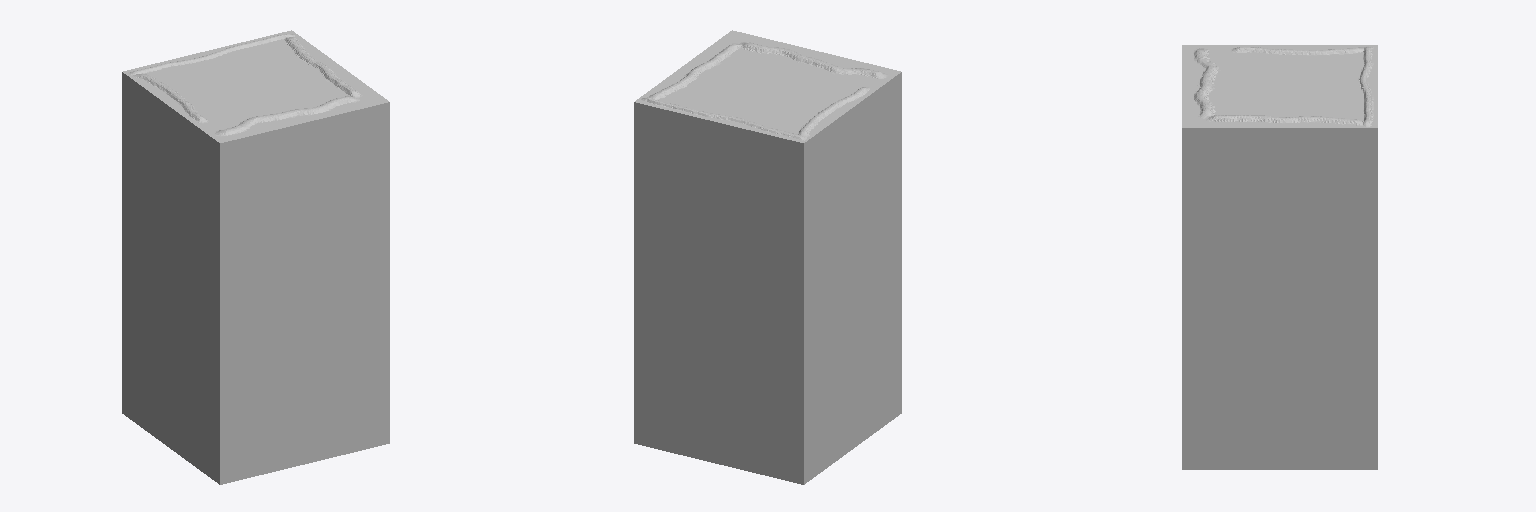
Rendered from Block4Buildings.obj.
The picture shows the model from 3 angles: view 1: azimuth 30°, elevation 25°; view 2: azimuth 150°, elevation 25°; view 3: azimuth 270°, elevation 25°; orthographic projection.
Parts seen in each view (by area): view 1: Cube; view 2: Cube; view 3: Cube.
Boxes of the visible parts, box(x1,y1,x2,y2) form: Cube: box(122, 30, 389, 484); Cube: box(634, 30, 901, 484); Cube: box(1182, 45, 1377, 469).
Size of the model in its own units: 103 by 199 by 103.